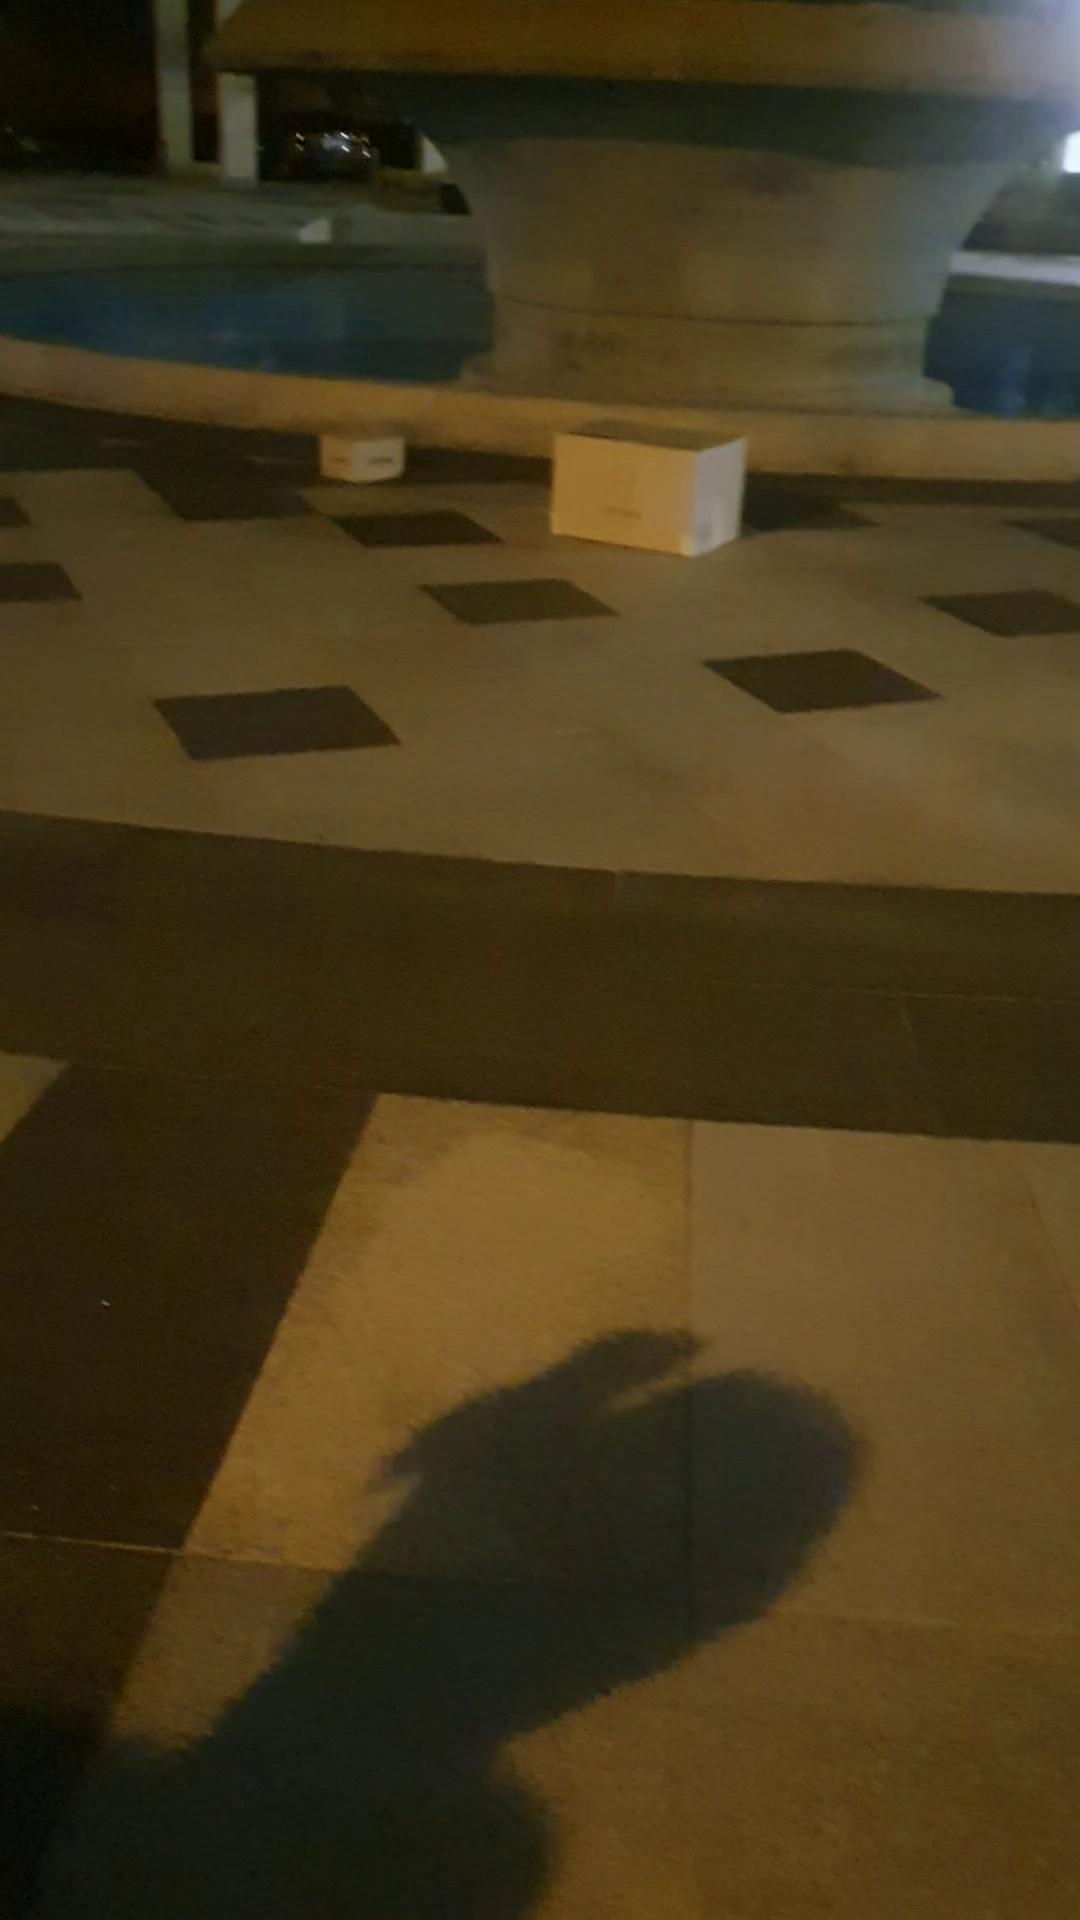Box: (535, 413, 756, 568), (306, 410, 413, 487)
